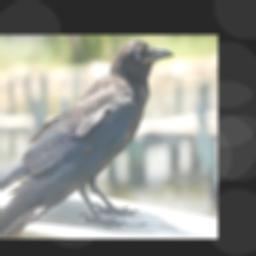Crow: (0, 39, 175, 238)
